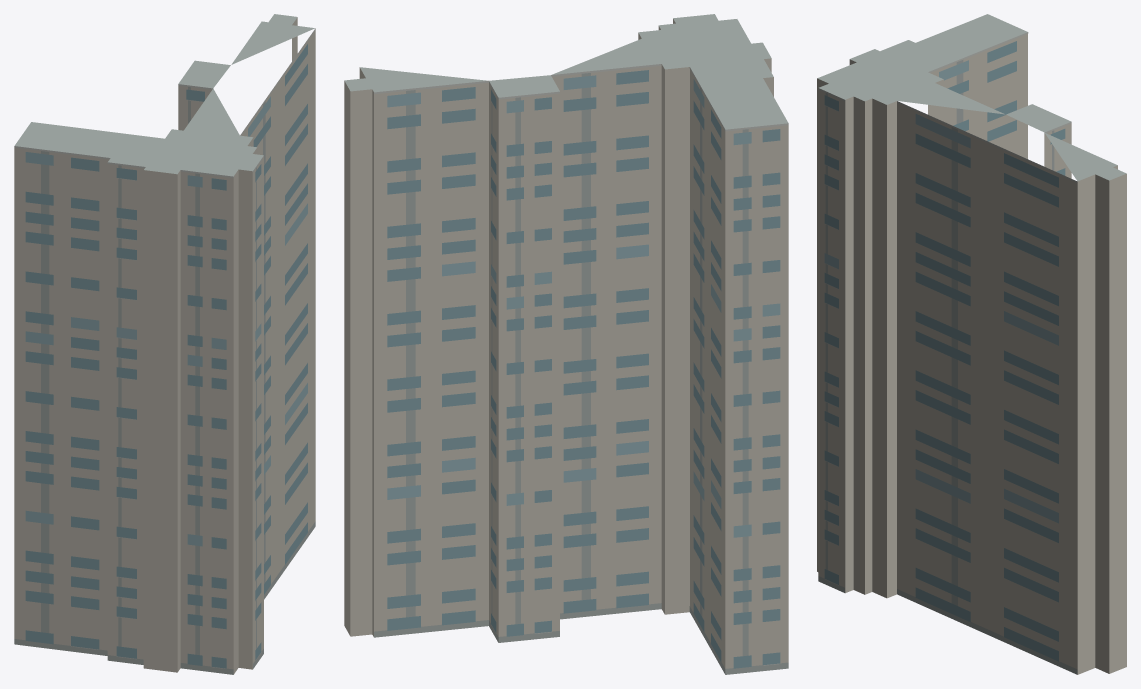
File: residential-248afdf0-ca44-418c-a49e-e967a87838b7.glb
The picture shows the model from 3 angles, left to right: view 1: azimuth 30°, elevation 25°; view 2: azimuth 150°, elevation 25°; view 3: azimuth 270°, elevation 25°; orthographic projection. The views are drawn at different scales.
Visible parts, largest first — view 1: residential-248afdf0-ca44-418c-a49e-e967a87838b7.tmp; view 2: residential-248afdf0-ca44-418c-a49e-e967a87838b7.tmp; view 3: residential-248afdf0-ca44-418c-a49e-e967a87838b7.tmp.
Boxes of the visible parts, x1=… form: residential-248afdf0-ca44-418c-a49e-e967a87838b7.tmp: x1=14, y1=14, x2=315, y2=674; residential-248afdf0-ca44-418c-a49e-e967a87838b7.tmp: x1=344, y1=14, x2=788, y2=674; residential-248afdf0-ca44-418c-a49e-e967a87838b7.tmp: x1=817, y1=14, x2=1126, y2=674.
Bounding box in the file's own units: 53.87 × 74 × 42.09.
